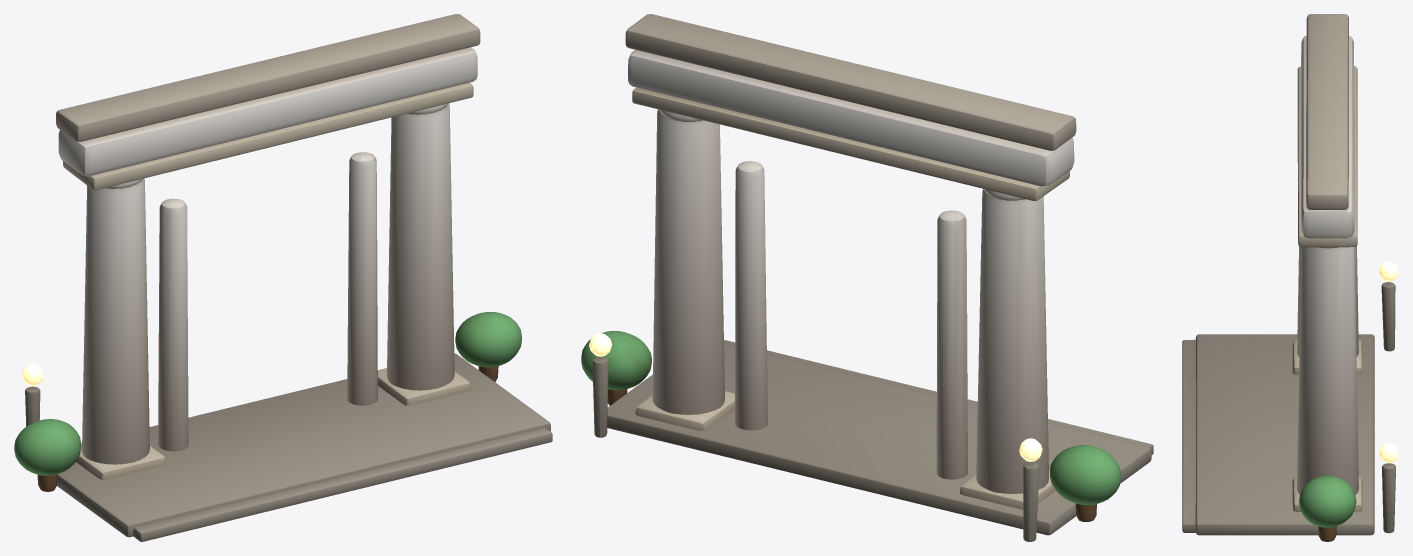
3 renders of one model, left to right at view 1: azimuth 30°, elevation 25°; view 2: azimuth 150°, elevation 25°; view 3: azimuth 270°, elevation 25°, orthographic. The views are drawn at different scales.
Visible parts, largest first — view 1: gate_dbd01ea1; view 2: gate_dbd01ea1; view 3: gate_dbd01ea1.
Part boxes in pixels (<box>): gate_dbd01ea1: <box>14,14,552,541</box>; gate_dbd01ea1: <box>581,14,1153,541</box>; gate_dbd01ea1: <box>1182,14,1398,541</box>.
Bounding box in the file's own units: 6.25 × 4.4 × 2.55.
